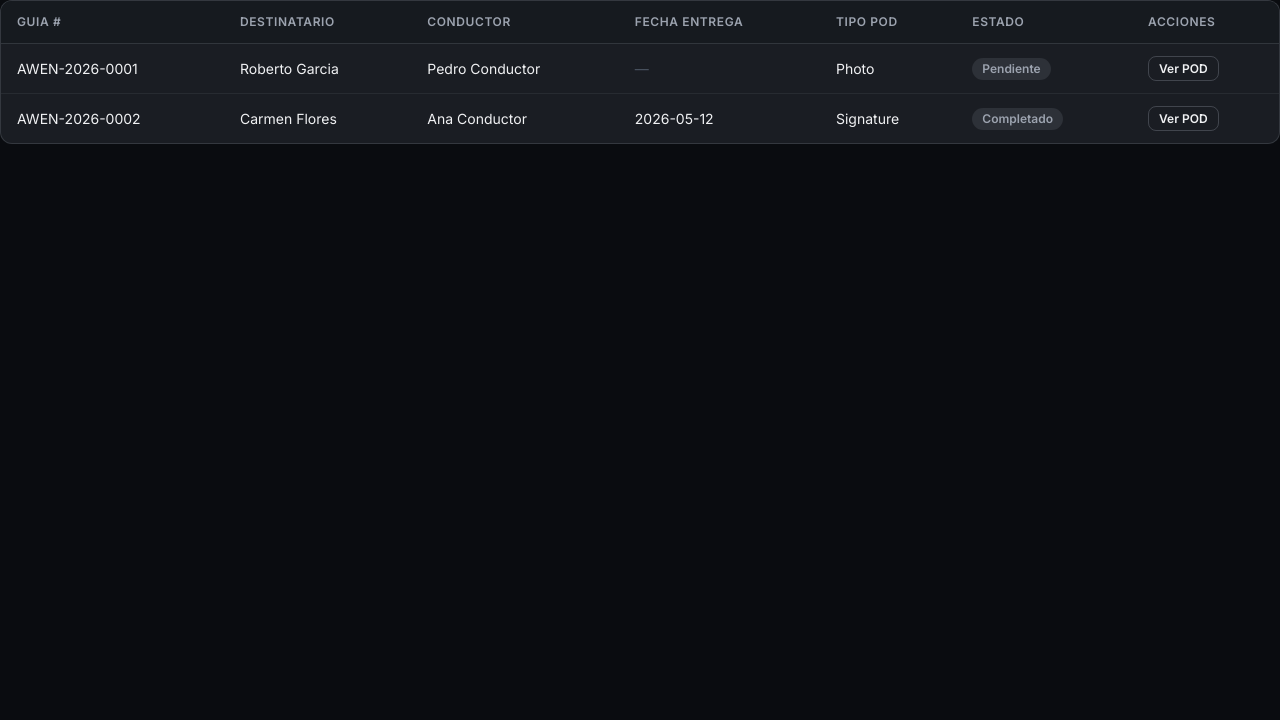
Scenario: ProofOfDelivery › abre el modal de comprobante con la informacion de la entrega
This screenshot has width=1280, height=720.
Check: the text "AWEN-2026-0001" is shown, box [1,44,224,94]
Click the button "Ver POD" in the row of "AWEN-2026-0001" at coordinates (1183, 68), box [1148,56,1219,81]
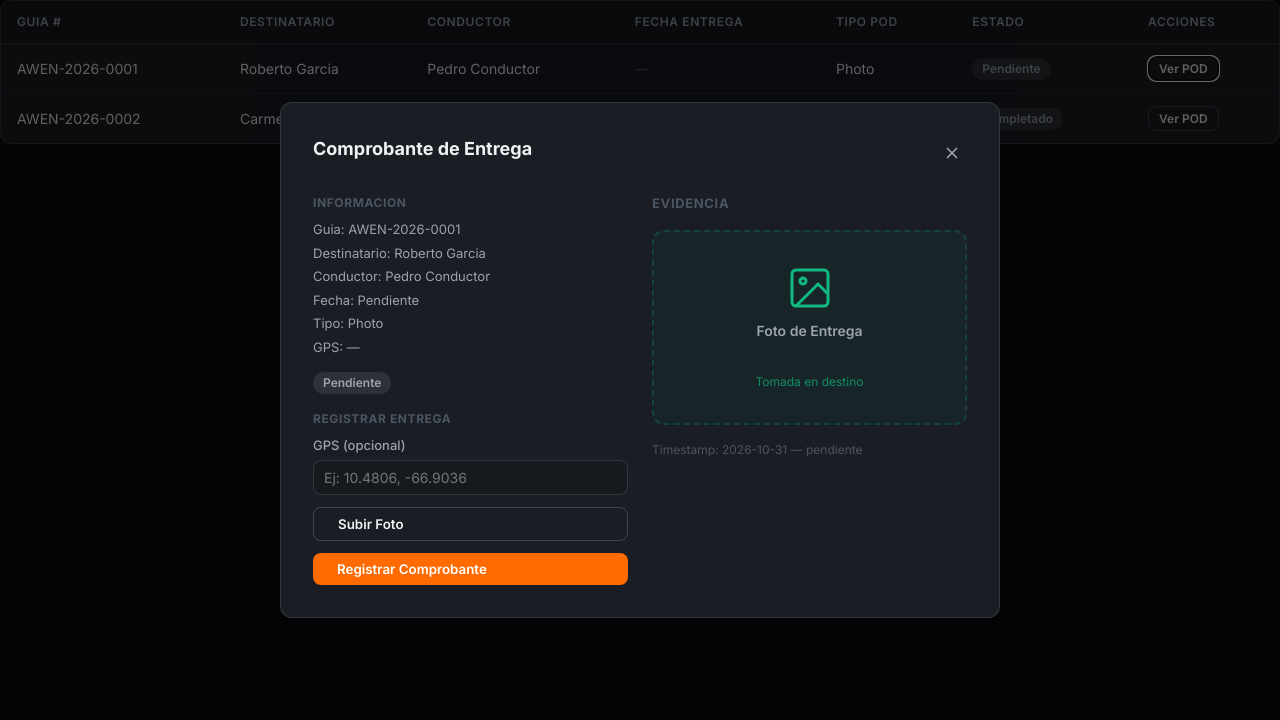
Check: the heading "Comprobante de Entrega" is shown, box [313,135,532,162]
Check: the heading "Informacion" is shown, box [313,195,407,210]
Check: the text "Guia: AWEN-2026-0001" is shown, box [313,221,460,237]
